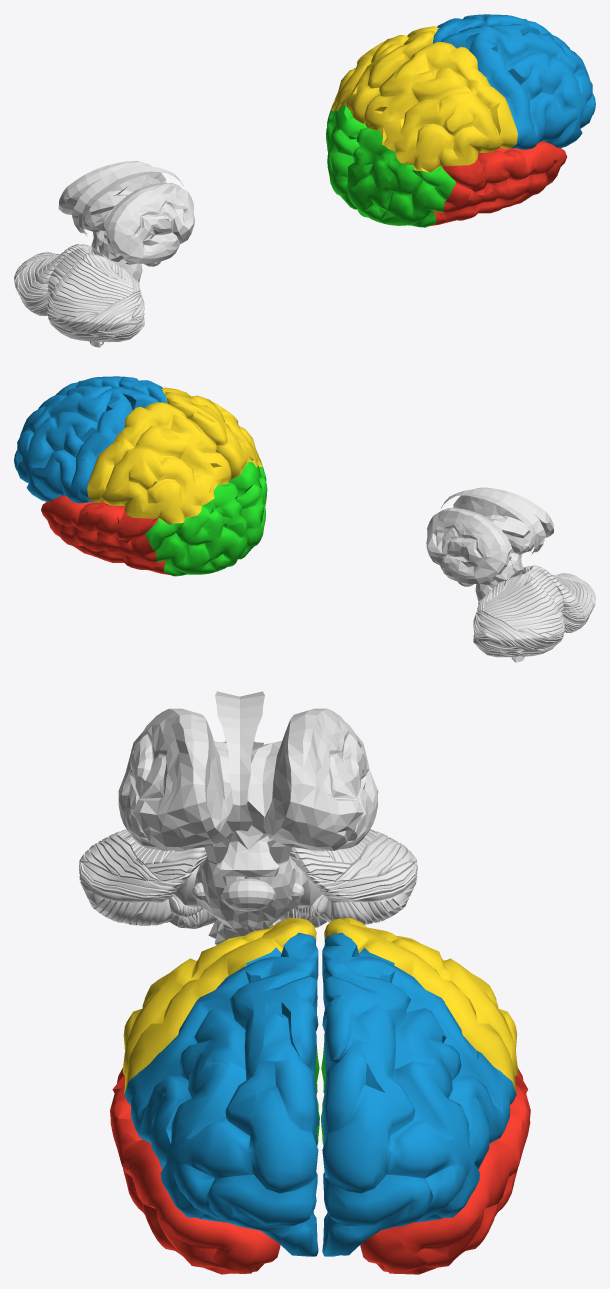
The model's file is lobes.glb.
The picture shows the model from 3 angles, top to bottom: view 1: azimuth 30°, elevation 25°; view 2: azimuth 150°, elevation 25°; view 3: azimuth 270°, elevation 25°; orthographic projection. The views are drawn at different scales.
Visible parts, largest first — view 1: pariet, frontal, cereb, stem, occipit, temp, corpus; view 2: pariet, frontal, cereb, stem, occipit, temp, corpus; view 3: frontal, stem, temp, cereb, pariet, corpus, pitua.
Boxes of the visible parts, x1,y1,x2,y2 form: pariet: (330, 26, 517, 172); frontal: (432, 14, 595, 149); cereb: (14, 244, 144, 342); stem: (58, 161, 194, 347); occipit: (326, 105, 456, 227); temp: (429, 141, 567, 226); corpus: (72, 165, 183, 236); pariet: (87, 387, 262, 524); frontal: (14, 376, 167, 503); cereb: (473, 565, 595, 657); stem: (426, 487, 553, 662); occipit: (145, 462, 267, 576); temp: (41, 495, 169, 574); corpus: (441, 488, 545, 554); frontal: (124, 932, 516, 1256); stem: (118, 708, 378, 945); temp: (110, 1067, 530, 1274); cereb: (79, 829, 417, 928); pariet: (122, 918, 518, 1094); corpus: (215, 691, 264, 831); pitua: (220, 878, 275, 911).
Size of the model in its own units: 0.3865 by 0.1375 by 0.1439.
